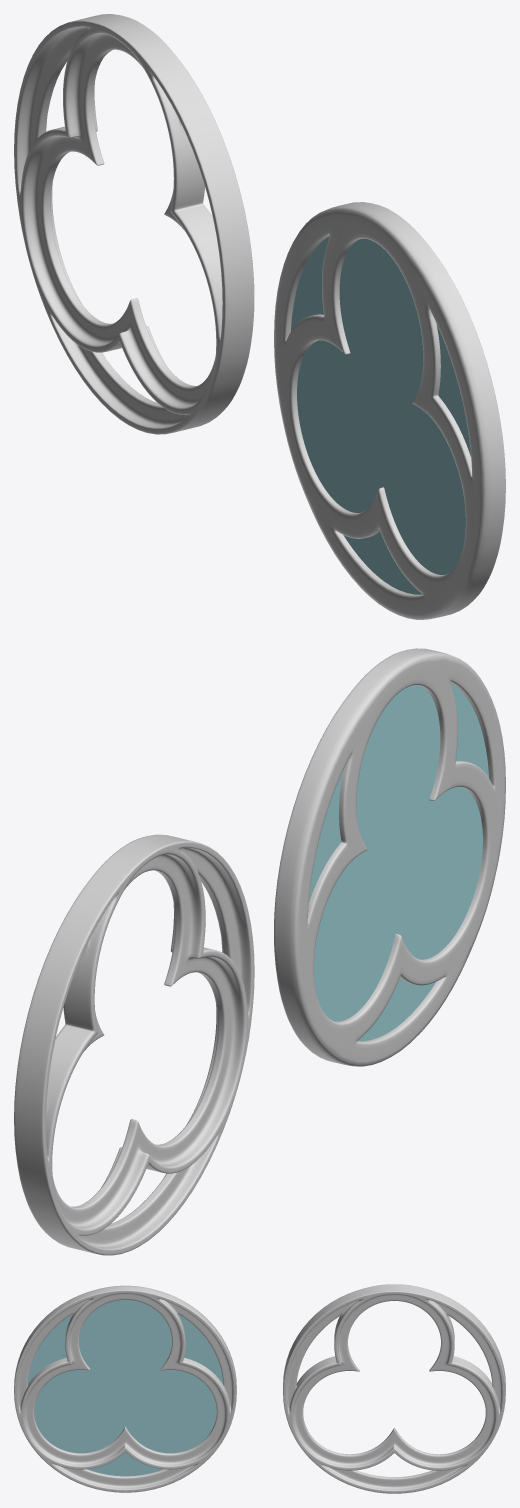
Rendered from CircularWindow_01.fbx.
3 views of the same model, one above another, from view 1: azimuth 30°, elevation 25°; view 2: azimuth 150°, elevation 25°; view 3: azimuth 270°, elevation 25° (orthographic). The views are drawn at different scales.
Visible parts, largest first — view 1: Circular_Window_01, Circular_Window_01_Symmetry; view 2: Circular_Window_01, Circular_Window_01_Symmetry; view 3: Circular_Window_01, Circular_Window_01_Symmetry.
Part boxes in pixels (x1=…): Circular_Window_01: x1=274, y1=202, x2=505, y2=619; Circular_Window_01_Symmetry: x1=14, y1=14, x2=254, y2=434; Circular_Window_01: x1=274, y1=648, x2=505, y2=1066; Circular_Window_01_Symmetry: x1=14, y1=834, x2=254, y2=1255; Circular_Window_01: x1=14, y1=1285, x2=236, y2=1492; Circular_Window_01_Symmetry: x1=283, y1=1284, x2=505, y2=1493.
Bounding box in the file's own units: 4 × 49.83 × 110.
